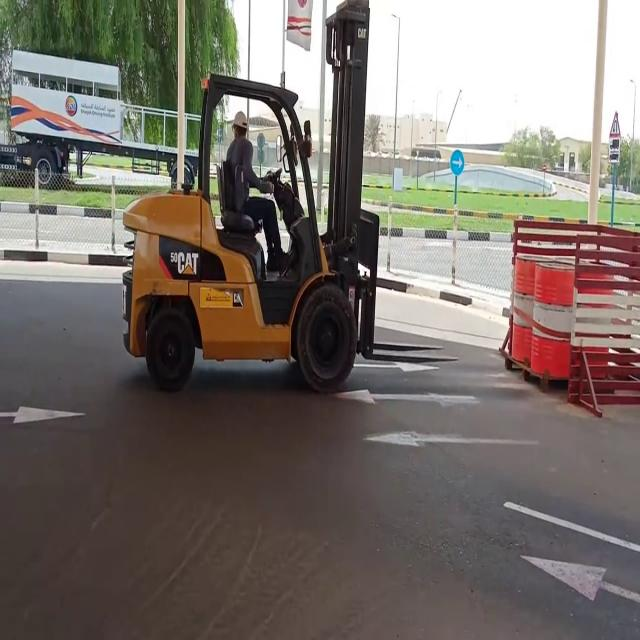Chariot elevateur: (112, 51, 378, 409)
